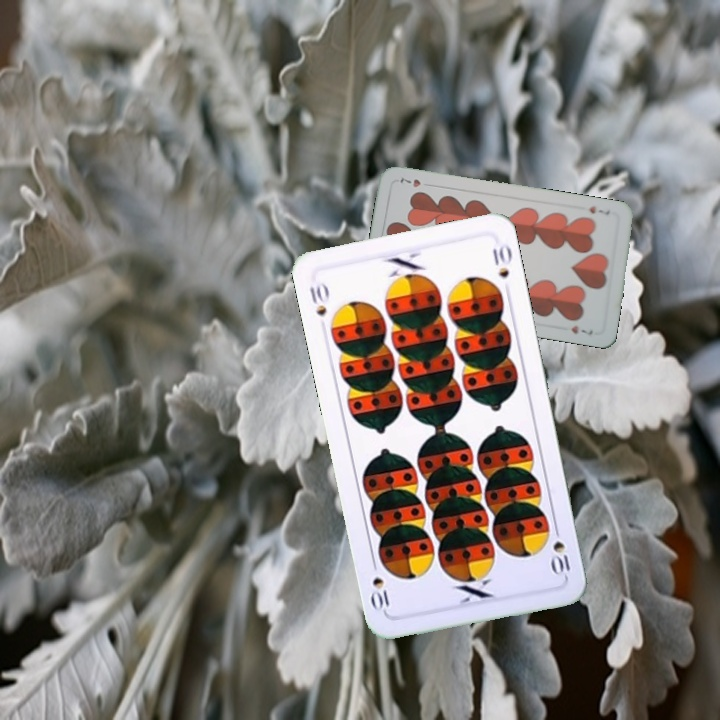H7: (585, 202, 612, 218)
S10: (548, 520, 573, 579), (305, 278, 331, 319)
